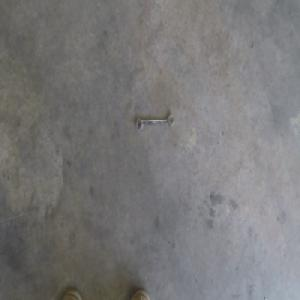Wrench: (135, 113, 174, 131)
